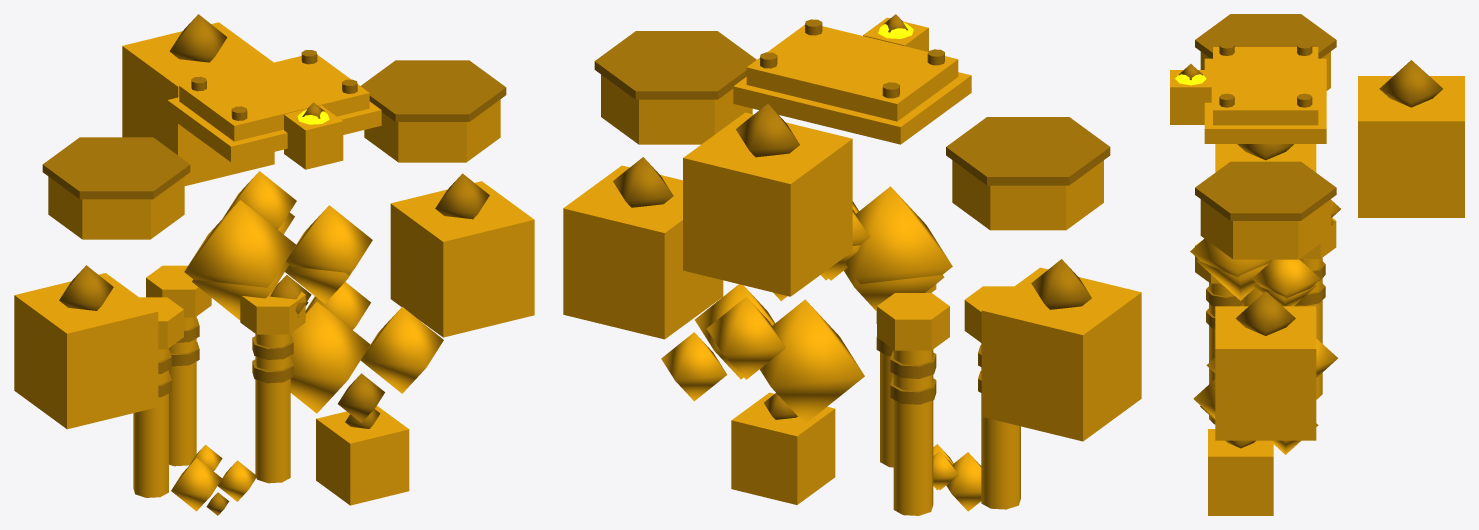
The model's file is golem_003.glb.
3 renders of one model, left to right at view 1: azimuth 30°, elevation 25°; view 2: azimuth 150°, elevation 25°; view 3: azimuth 270°, elevation 25°, orthographic. The views are drawn at different scales.
Parts seen in each view (by area): view 1: Body, Detail; view 2: Body, Detail; view 3: Body, Detail.
Boxes of the visible parts, x1,y1,x2,y2 form: Body: [14, 22, 534, 511]; Detail: [42, 14, 506, 515]; Body: [563, 17, 1141, 515]; Detail: [594, 14, 1110, 419]; Body: [1170, 47, 1464, 515]; Detail: [1179, 14, 1442, 448].
Bounding box in the file's own units: 1.18 × 1.03 × 0.6731.
